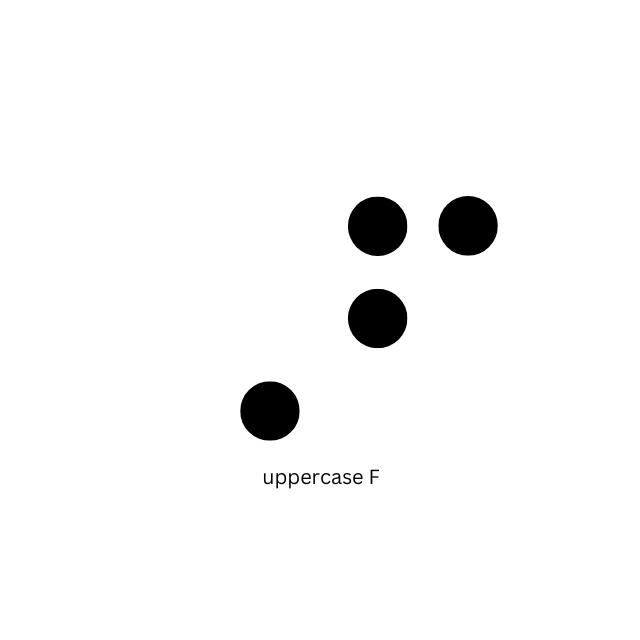capital_sign: (150, 196, 302, 443)
letter_F: (346, 193, 498, 439)
